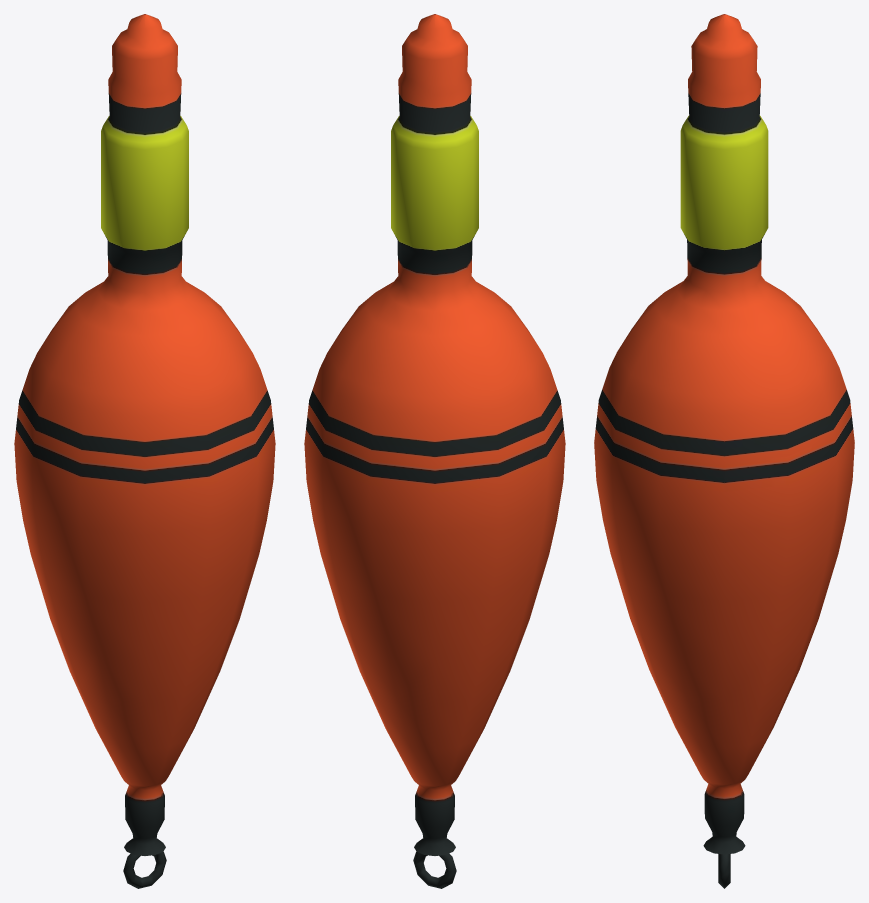
The picture shows the model from 3 angles, left to right: view 1: azimuth 30°, elevation 25°; view 2: azimuth 150°, elevation 25°; view 3: azimuth 270°, elevation 25°; orthographic projection.
Visible parts, largest first — view 1: F14_Float; view 2: F14_Float; view 3: F14_Float.
Part boxes in pixels (x1=…): F14_Float: x1=14, y1=14, x2=275, y2=888; F14_Float: x1=304, y1=14, x2=565, y2=888; F14_Float: x1=594, y1=14, x2=854, y2=888.
Size of the model in its own units: 0.038 by 0.14 by 0.038.
1 material, 1 textured.
